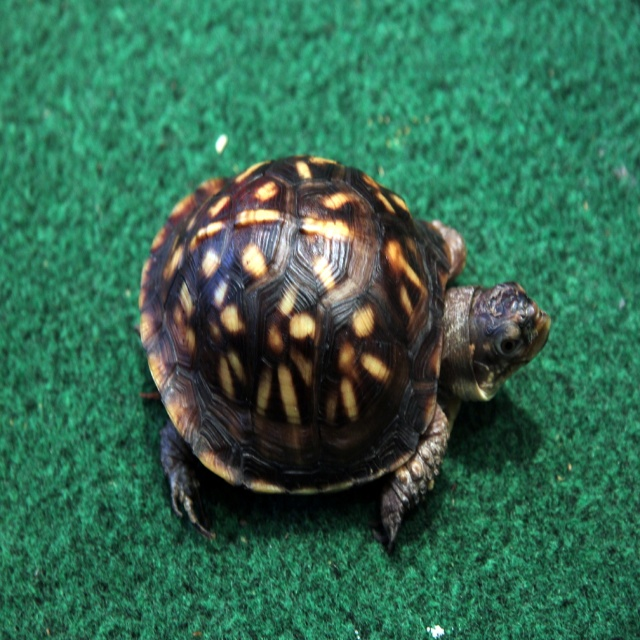Sea turtle: (134, 155, 551, 554)
